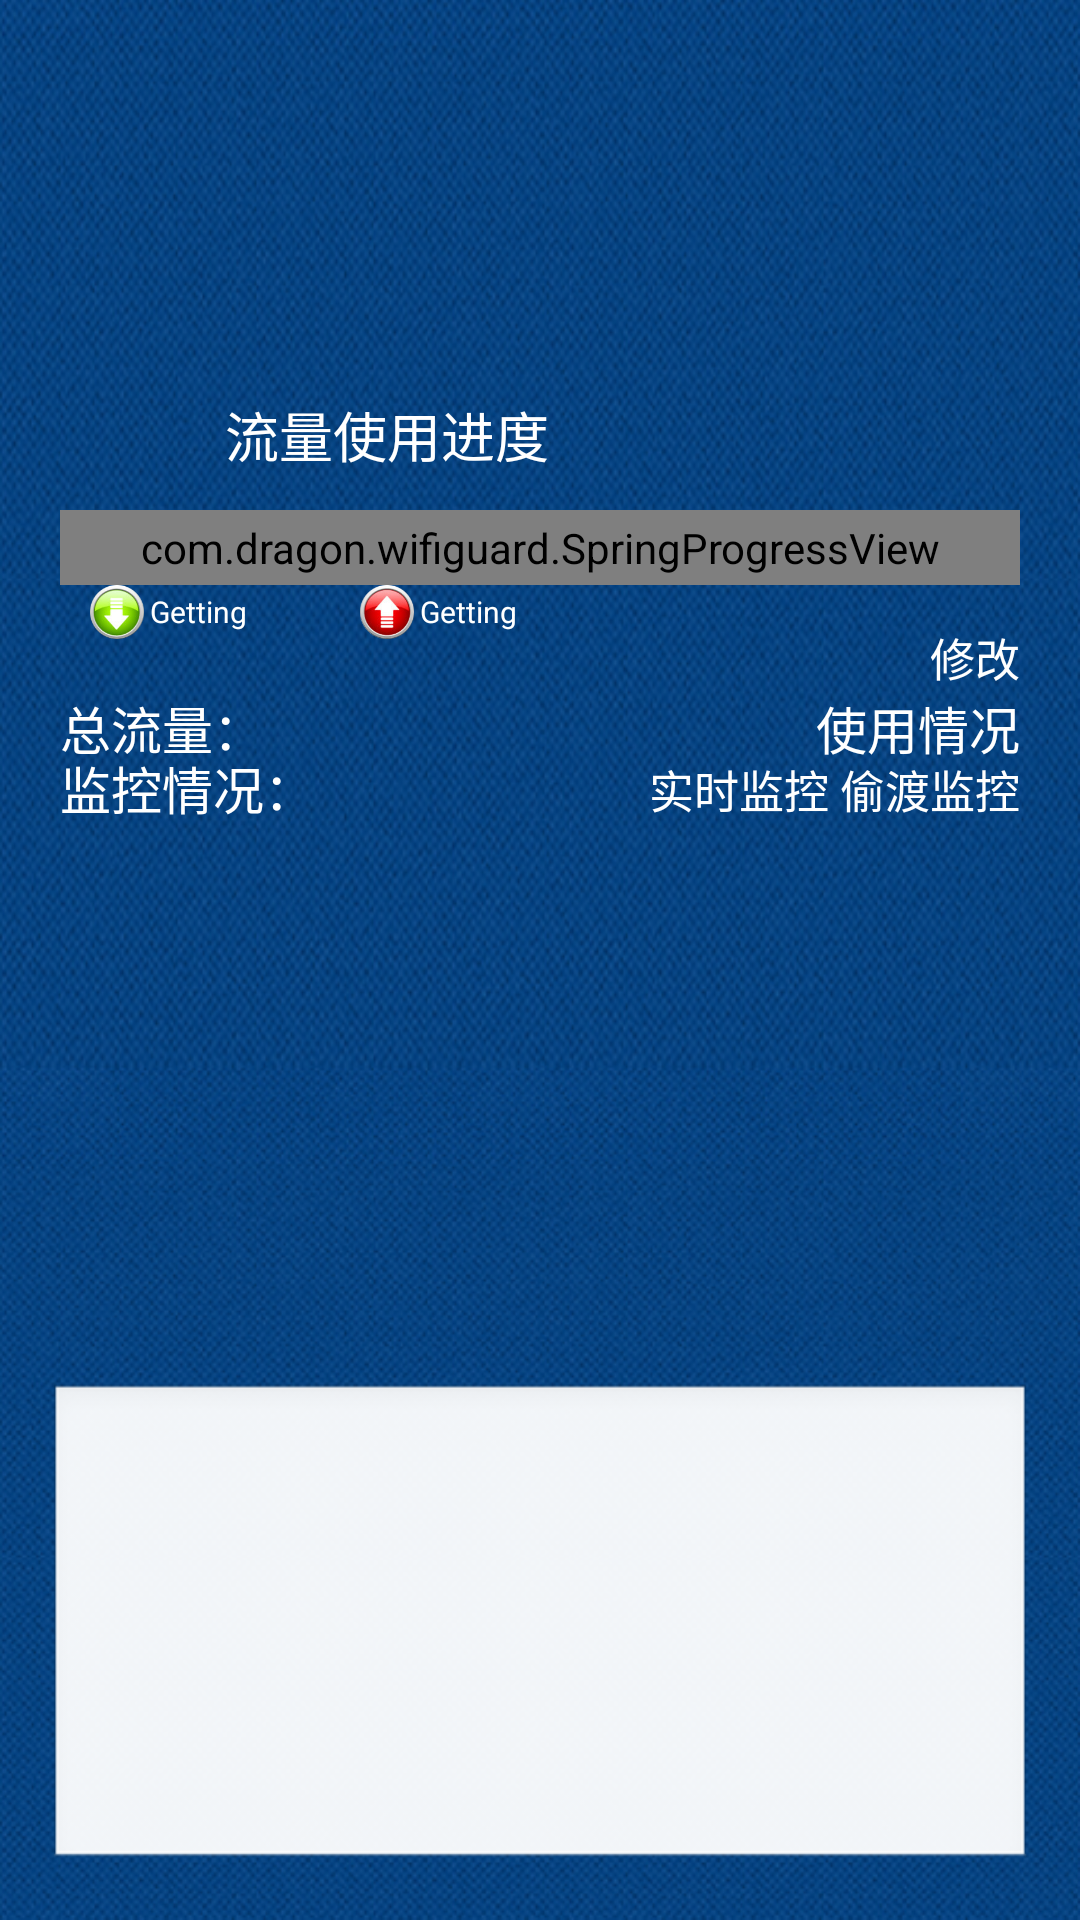

Icon click points for this 1080*1920 phone screenshot, format (x=x, y=y):
down: (x=117, y=612)
